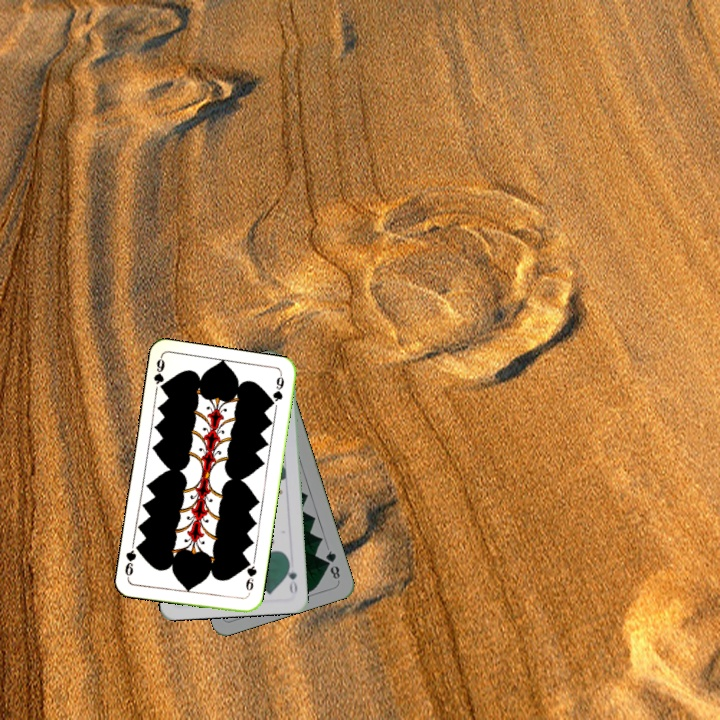G8: (321, 547, 343, 582)
G9: (150, 353, 168, 395), (242, 557, 259, 593)
GO: (282, 557, 300, 596)
